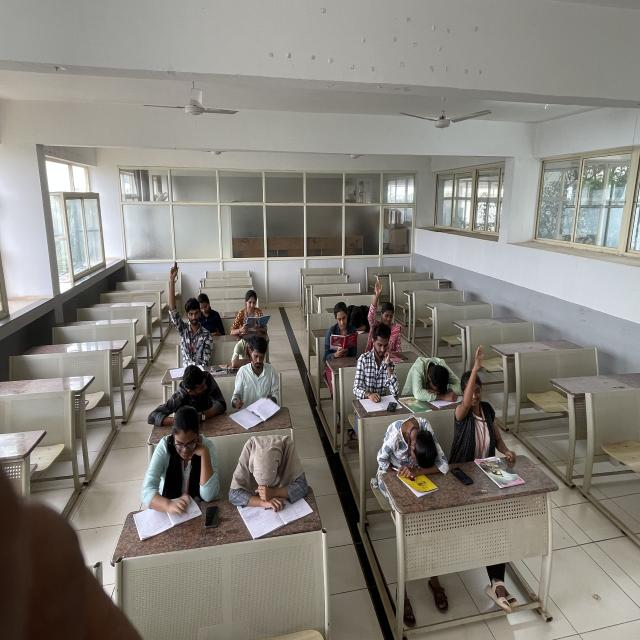Hand Rising: (454, 344, 512, 462), (165, 260, 215, 379), (368, 280, 406, 351)
Reading: (231, 334, 288, 430), (353, 321, 401, 412), (324, 301, 361, 362), (228, 288, 270, 334)
Sleeping: (226, 426, 310, 530), (372, 412, 450, 483), (402, 355, 461, 408), (348, 297, 373, 341)
Using Phone: (196, 291, 226, 342)
Writing: (133, 396, 227, 538)
